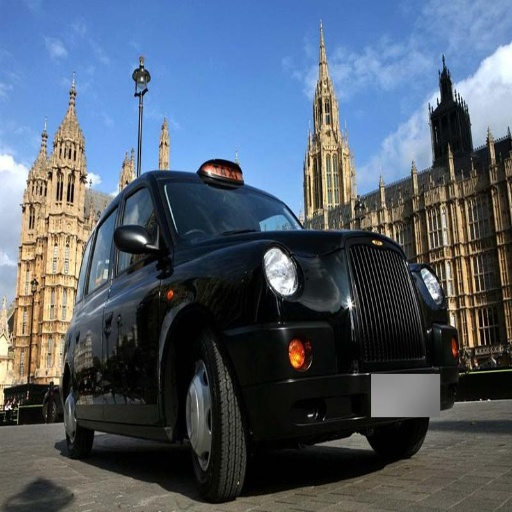front_bumper: (237, 299, 439, 435)
front_glass: (172, 178, 276, 230)
front_right_door: (98, 178, 162, 420)
